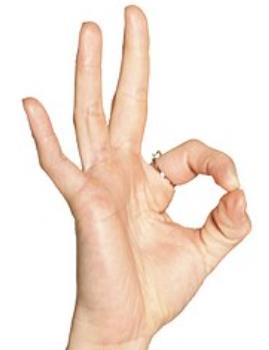left: (14, 3, 255, 328)
